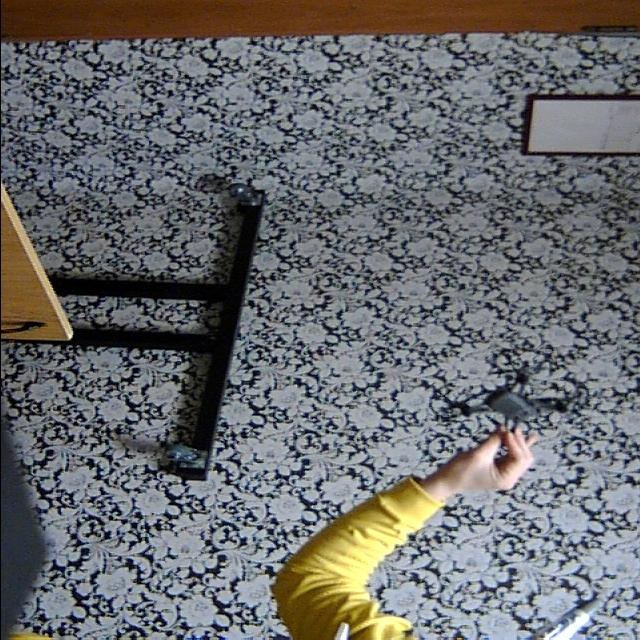drone: (434, 333, 600, 467)
